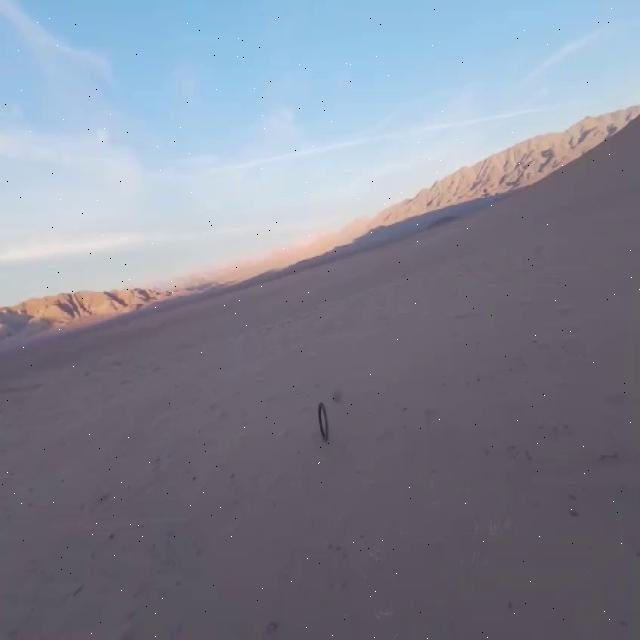Tire: (318, 403, 329, 441)
